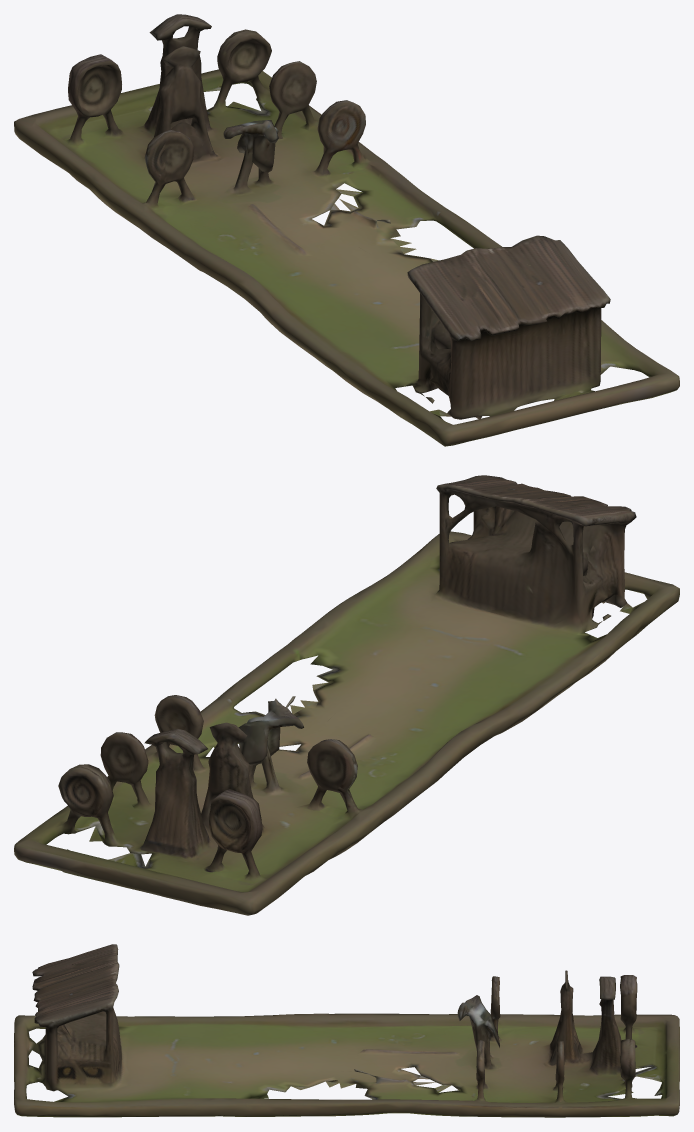
File: archery_range.glb
3 views of the same model, one above another, from view 1: azimuth 30°, elevation 25°; view 2: azimuth 150°, elevation 25°; view 3: azimuth 270°, elevation 25° (orthographic). The views are drawn at different scales.
Parts seen in each view (by area): view 1: ArcheryRange; view 2: ArcheryRange; view 3: ArcheryRange.
Boxes of the visible parts, <box> form: ArcheryRange: <box>14,14,679,446</box>; ArcheryRange: <box>14,475,679,915</box>; ArcheryRange: <box>14,944,679,1117</box>.
Bounding box in the file's own units: 1.97 × 0.9939 × 6.
Materials: 1 (1 with a texture image).
